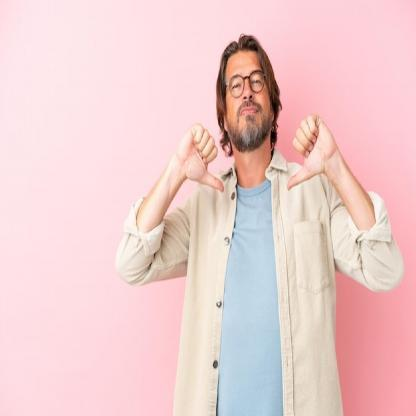thumb_down: (284, 110, 338, 195), (178, 118, 226, 195)
